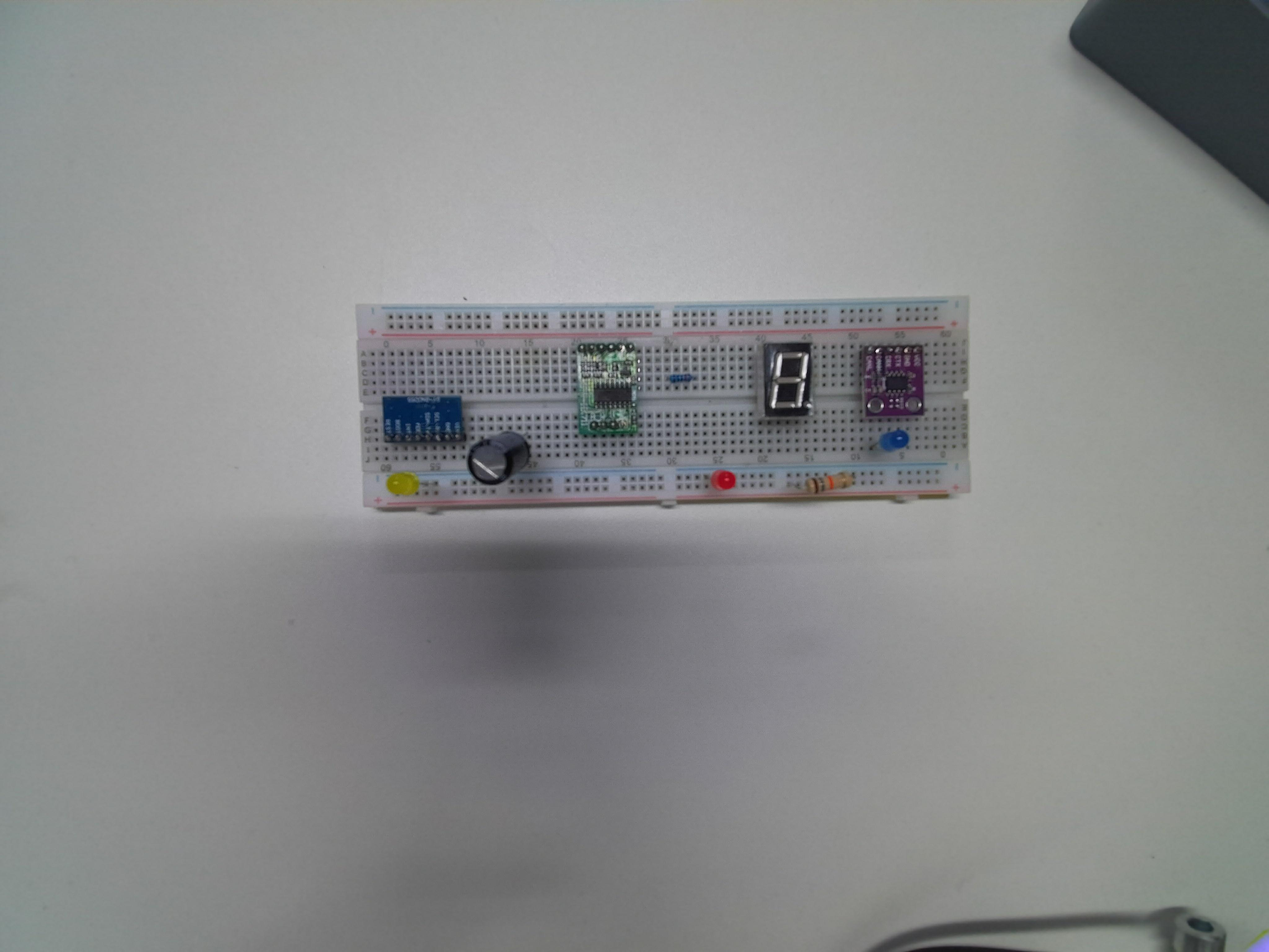base: (353, 298, 972, 514)
blue-board: (380, 395, 465, 448)
blue-led: (877, 426, 914, 458)
capacitor: (468, 430, 534, 489)
digit-board: (756, 335, 815, 423)
green-board: (573, 341, 641, 439)
purple-board: (857, 341, 926, 422)
red-led: (711, 469, 736, 491)
resistor-big: (802, 470, 861, 497)
resistor-small: (663, 369, 698, 386)
yellow-led: (387, 473, 419, 497)
